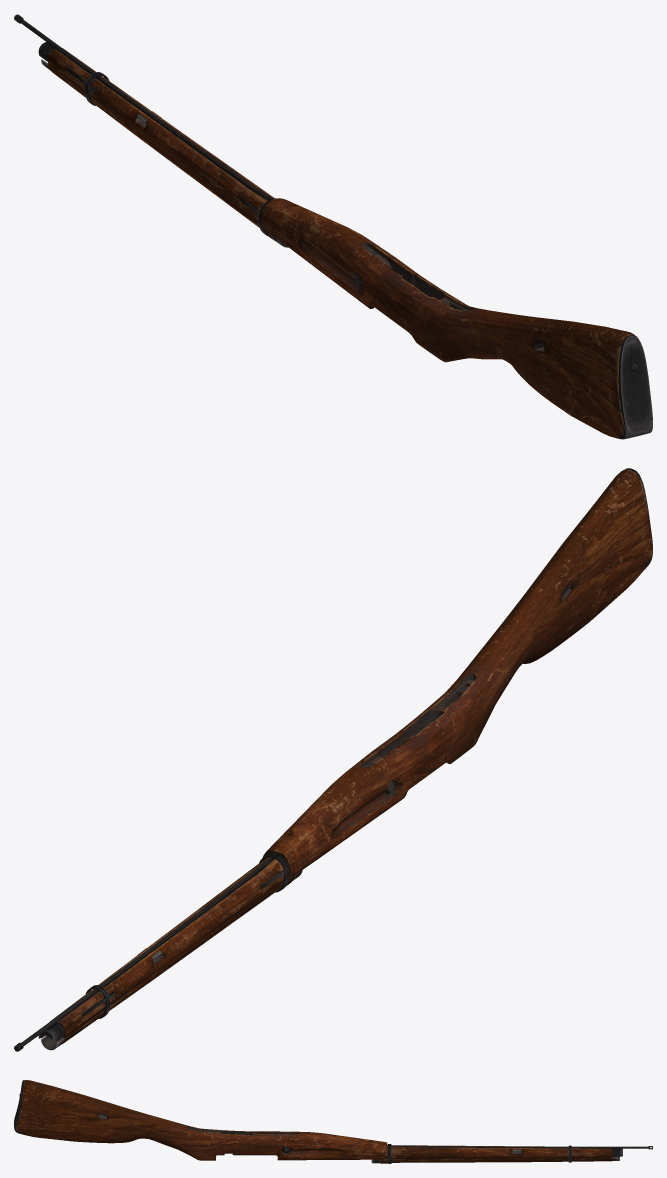
The picture shows the model from 3 angles, top to bottom: view 1: azimuth 30°, elevation 25°; view 2: azimuth 150°, elevation 25°; view 3: azimuth 270°, elevation 25°; orthographic projection. The views are drawn at different scales.
Parts seen in each view (by area): view 1: TW_5ae096d95acfc400185c2c81_PZ_Import; view 2: TW_5ae096d95acfc400185c2c81_PZ_Import; view 3: TW_5ae096d95acfc400185c2c81_PZ_Import.
Boxes of the visible parts, x1,y1,x2,y2 form: TW_5ae096d95acfc400185c2c81_PZ_Import: (14, 14, 652, 439); TW_5ae096d95acfc400185c2c81_PZ_Import: (14, 468, 652, 1051); TW_5ae096d95acfc400185c2c81_PZ_Import: (14, 1080, 652, 1163).
Size of the model in its own units: 0.0254 by 0.7043 by 0.1006.
Materials: 1 (1 with a texture image).
